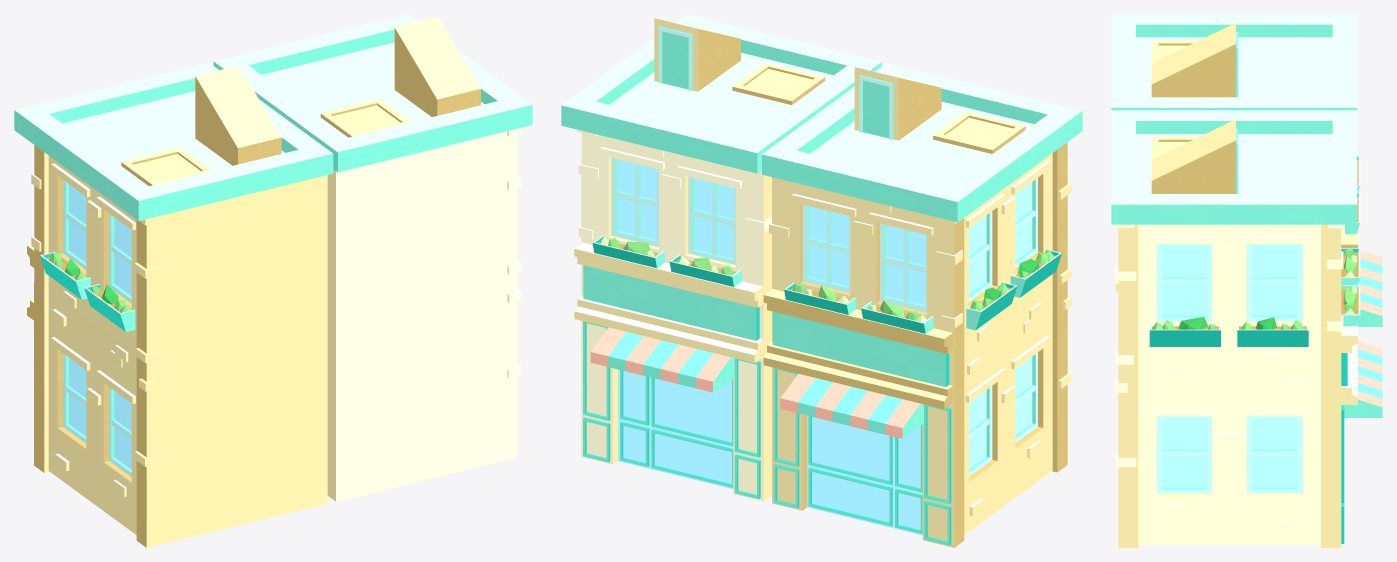
Rendered from dwelling&store.glb.
3 renders of one model, left to right at view 1: azimuth 30°, elevation 25°; view 2: azimuth 150°, elevation 25°; view 3: azimuth 270°, elevation 25°, orthographic.
Visible parts, largest first — view 1: dwelling&store(Clone); view 2: dwelling&store(Clone); view 3: dwelling&store(Clone).
Boxes of the visible parts, x1,y1,x2,y2 form: dwelling&store(Clone): [14, 14, 532, 547]; dwelling&store(Clone): [561, 14, 1082, 547]; dwelling&store(Clone): [1111, 14, 1382, 547].
Size of the model in its own units: 7.16 by 6.98 by 4.31.
Materials: 1 (1 with a texture image).
